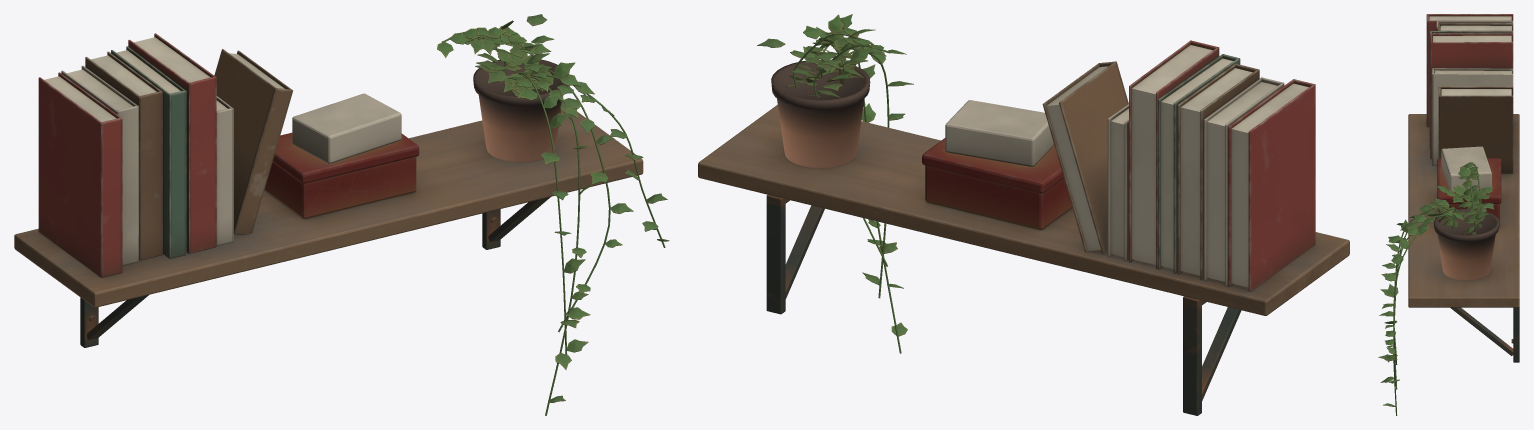
The model's file is WallShelf.fbx.
3 renders of one model, left to right at view 1: azimuth 30°, elevation 25°; view 2: azimuth 150°, elevation 25°; view 3: azimuth 270°, elevation 25°, orthographic. The views are drawn at different scales.
Parts seen in each view (by area): view 1: WallShelf_Mesh; view 2: WallShelf_Mesh; view 3: WallShelf_Mesh.
Boxes of the visible parts, x1,y1,x2,y2 form: WallShelf_Mesh: (14, 14, 669, 415); WallShelf_Mesh: (698, 14, 1349, 415); WallShelf_Mesh: (1378, 14, 1519, 415).
Size of the model in its own units: 0.8393 by 0.5634 by 0.2666.
